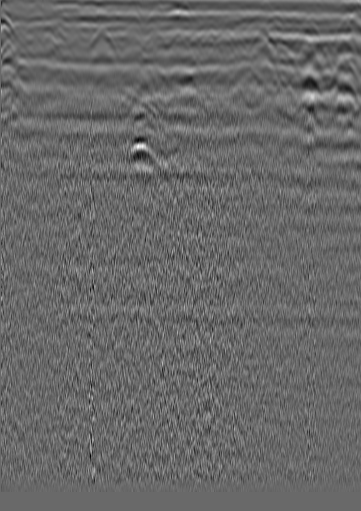가스: (119, 140, 161, 168)
상수: (301, 18, 321, 38)
오수: (39, 20, 59, 40)
우수: (172, 27, 192, 47)
